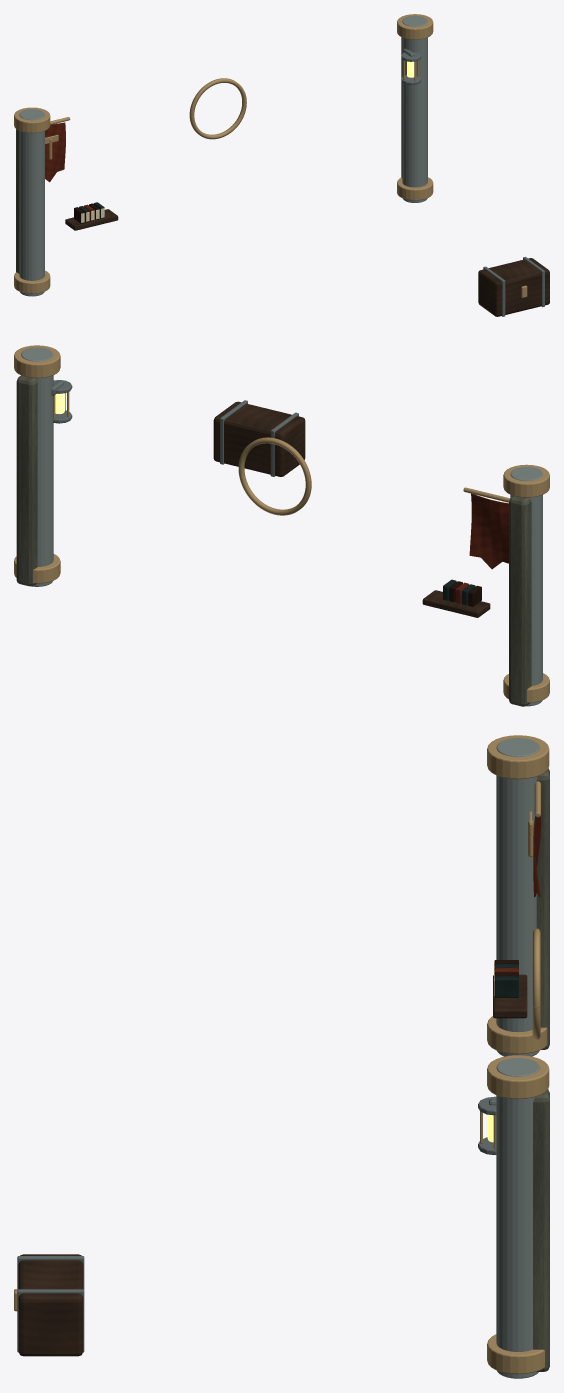
Rendered from evolution-shop.glb.
3 views of the same model, one above another, from view 1: azimuth 30°, elevation 25°; view 2: azimuth 150°, elevation 25°; view 3: azimuth 270°, elevation 25° (orthographic). The views are drawn at different scales.
Visible parts, largest first — view 1: Part_Charcoal slate.003, Part_Aged brass, Part_Oak honey.003, Part_Rival ochre.004, Part_Carved limestone.006, Part_Oak honey, Part_Blackened iron.010; view 2: Part_Carved limestone.006, Part_Charcoal slate.003, Part_Aged brass, Part_Oak honey.003, Part_Rival ochre.004, Part_Oak honey, Part_Blackened iron.010, Part_Blackened iron.019; view 3: Part_Charcoal slate.003, Part_Aged brass, Part_Carved limestone.006, Part_Oak honey.003, Part_Blackened iron.010, Part_Oak honey.
Boxes of the visible parts, left/top/right/bottom form: Part_Charcoal slate.003: left=19, top=15, right=427, bottom=296; Part_Aged brass: left=14, top=14, right=433, bottom=293; Part_Oak honey.003: left=478, top=258, right=549, bottom=316; Part_Rival ochre.004: left=45, top=122, right=65, bottom=182; Part_Carved limestone.006: left=16, top=37, right=402, bottom=273; Part_Oak honey: left=65, top=209, right=118, bottom=230; Part_Blackened iron.010: left=483, top=257, right=544, bottom=316; Part_Carved limestone.006: left=16, top=375, right=531, bottom=706; Part_Charcoal slate.003: left=21, top=347, right=542, bottom=706; Part_Aged brass: left=14, top=345, right=549, bottom=702; Part_Oak honey.003: left=213, top=401, right=305, bottom=476; Part_Rival ochre.004: left=469, top=493, right=508, bottom=569; Part_Oak honey: left=422, top=590, right=490, bottom=617; Part_Blackened iron.010: left=220, top=400, right=298, bottom=476; Part_Blackened iron.019: left=51, top=380, right=72, bottom=423; Part_Charcoal slate.003: left=496, top=738, right=539, bottom=1378; Part_Aged brass: left=487, top=735, right=549, bottom=1374; Part_Carved limestone.006: left=533, top=768, right=549, bottom=1371; Part_Oak honey.003: left=18, top=1254, right=83, bottom=1356; Part_Blackened iron.010: left=17, top=1256, right=84, bottom=1352; Part_Oak honey: left=493, top=974, right=527, bottom=1018.
Size of the model in its own units: 7.1 by 2.9 by 4.65.
10 materials, 5 textured.
